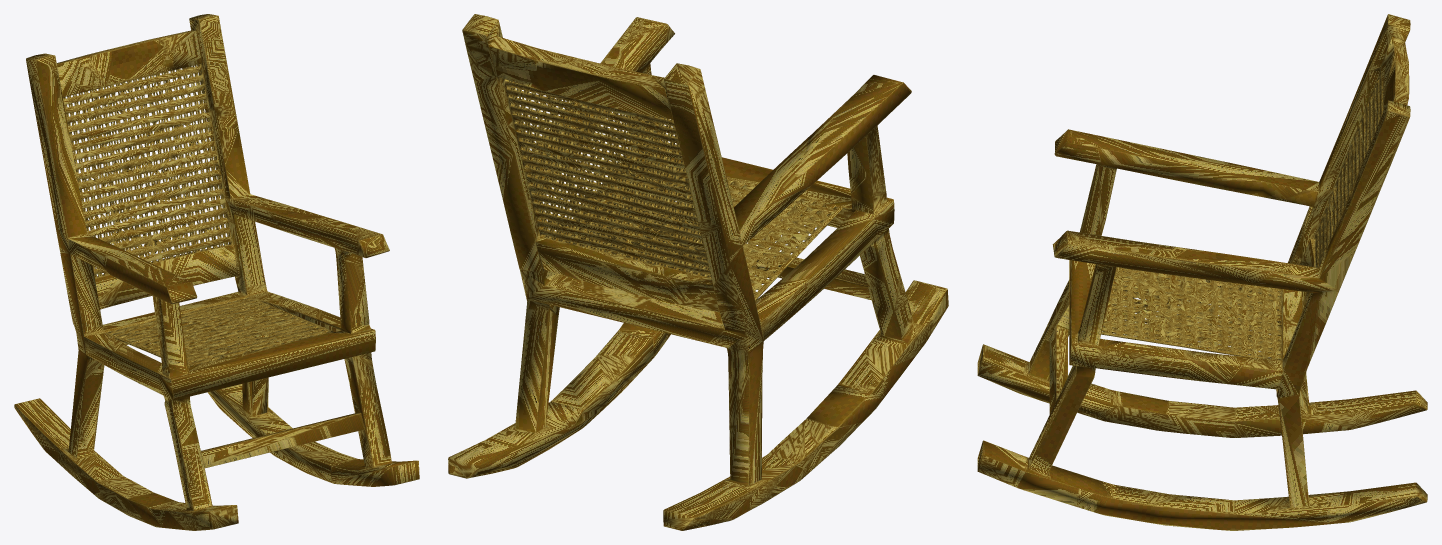
Rendered from rocking_chair_psx.glb.
The picture shows the model from 3 angles, left to right: view 1: azimuth 30°, elevation 25°; view 2: azimuth 150°, elevation 25°; view 3: azimuth 270°, elevation 25°; orthographic projection. The views are drawn at different scales.
Parts seen in each view (by area): view 1: RockingChair_opt; view 2: RockingChair_opt; view 3: RockingChair_opt.
Part boxes in pixels (left/top/right/bottom): RockingChair_opt: left=14, top=14, right=419, bottom=530; RockingChair_opt: left=448, top=14, right=948, bottom=530; RockingChair_opt: left=977, top=14, right=1427, bottom=530.
Size of the model in its own units: 0.5034 by 0.8487 by 0.8308.
Materials: 1 (1 with a texture image).
